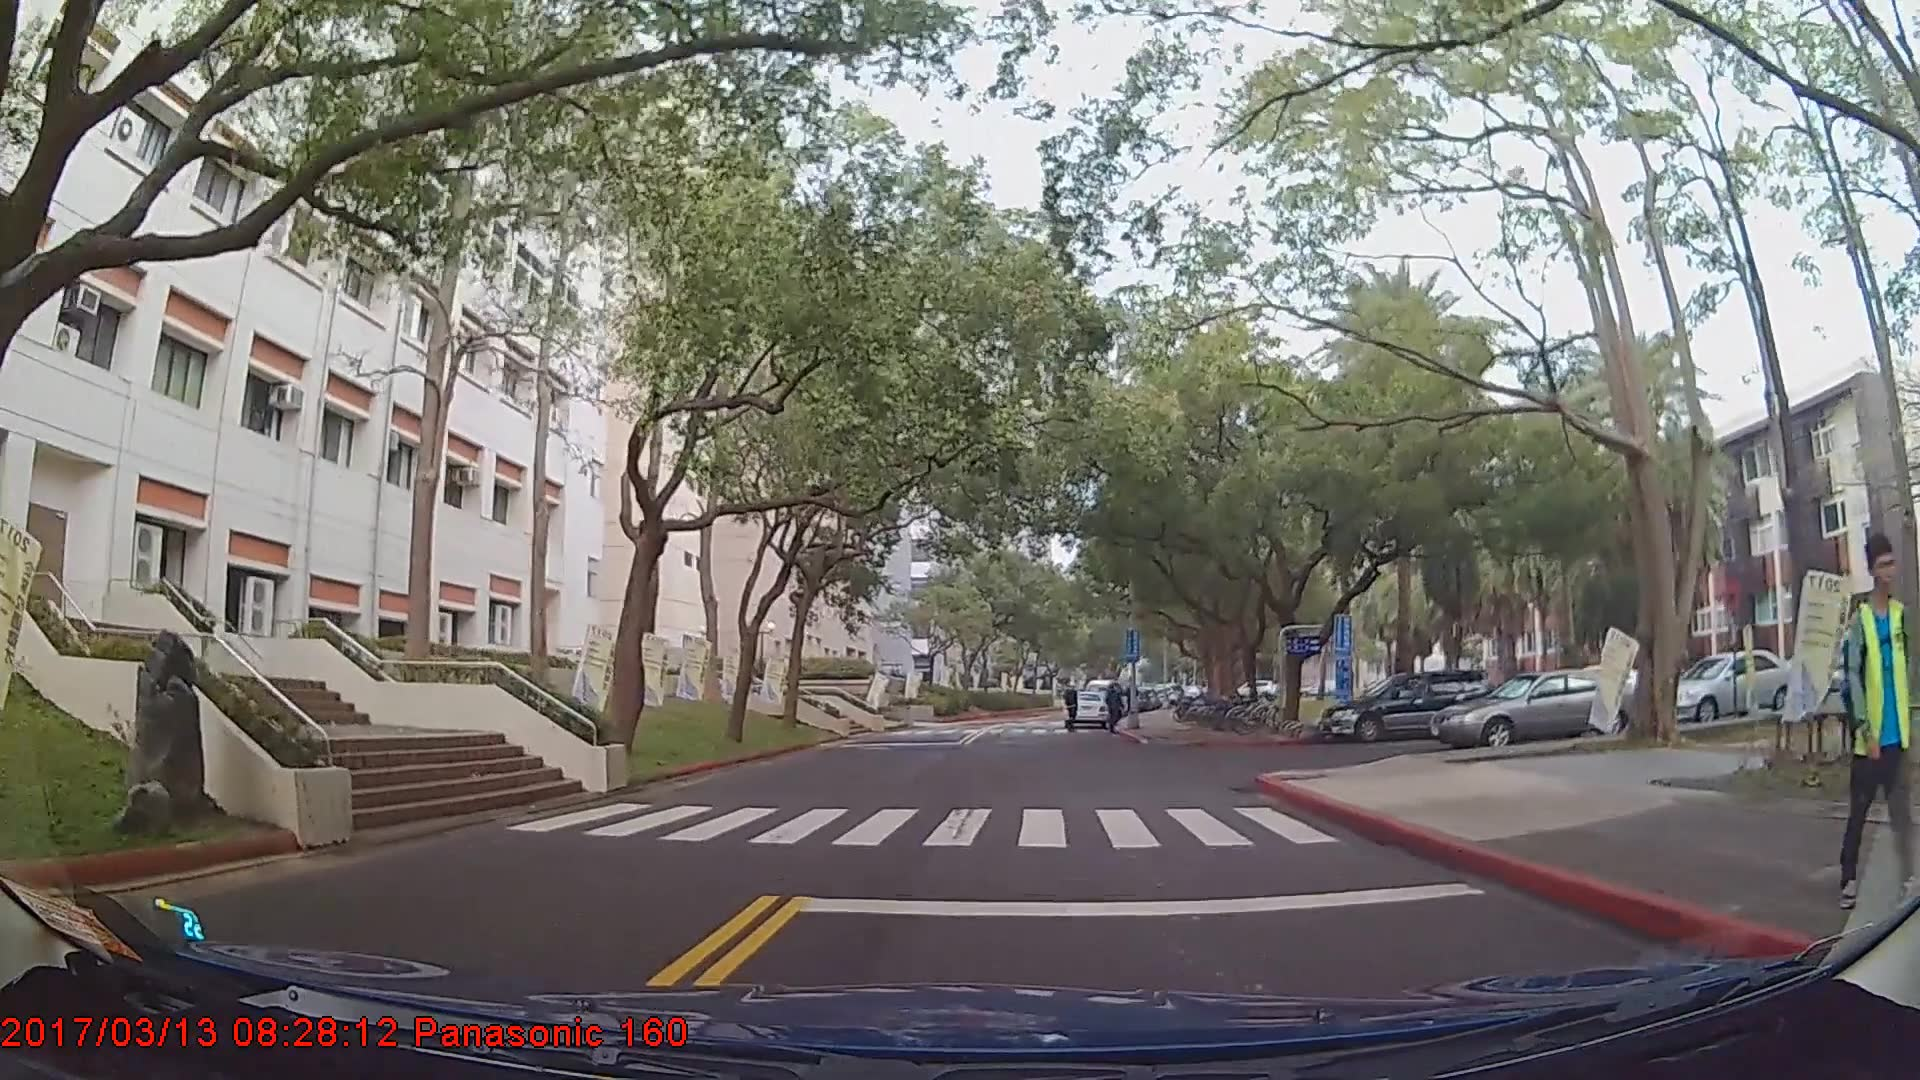pedestrian: (1839, 531, 1920, 923), (1106, 684, 1127, 734), (1063, 684, 1083, 736)
vehicle: (1429, 669, 1643, 749), (1317, 667, 1492, 740), (1659, 651, 1805, 725), (1062, 689, 1110, 728)
